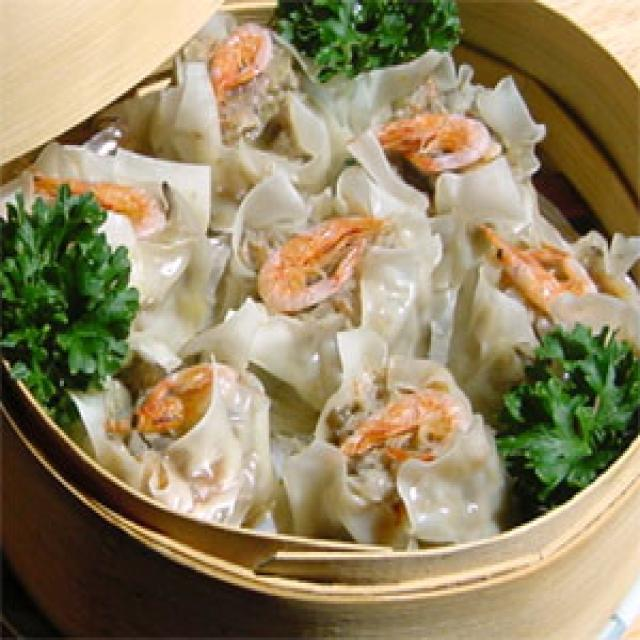带馅早点: (6, 18, 640, 544)
